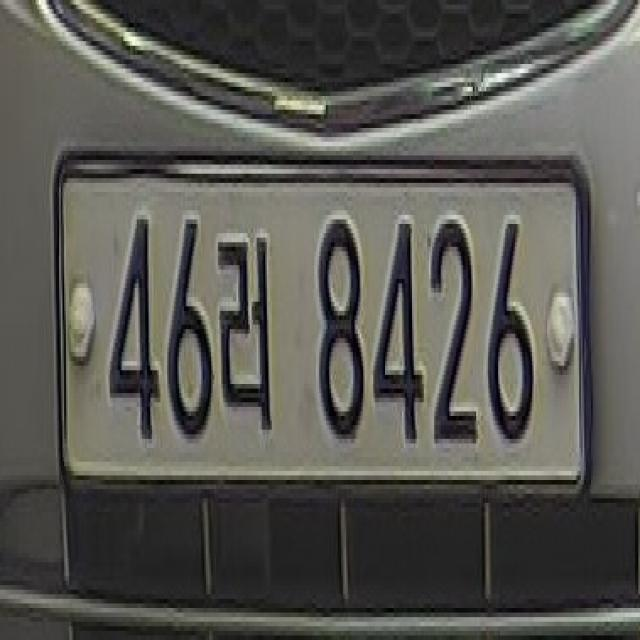2: (432, 210, 484, 466)
4: (102, 210, 164, 466), (371, 206, 428, 468)
6: (487, 208, 539, 464), (166, 210, 218, 460)
8: (307, 202, 368, 462)
leo: (216, 215, 278, 458)
license_plate: (48, 130, 594, 521)
